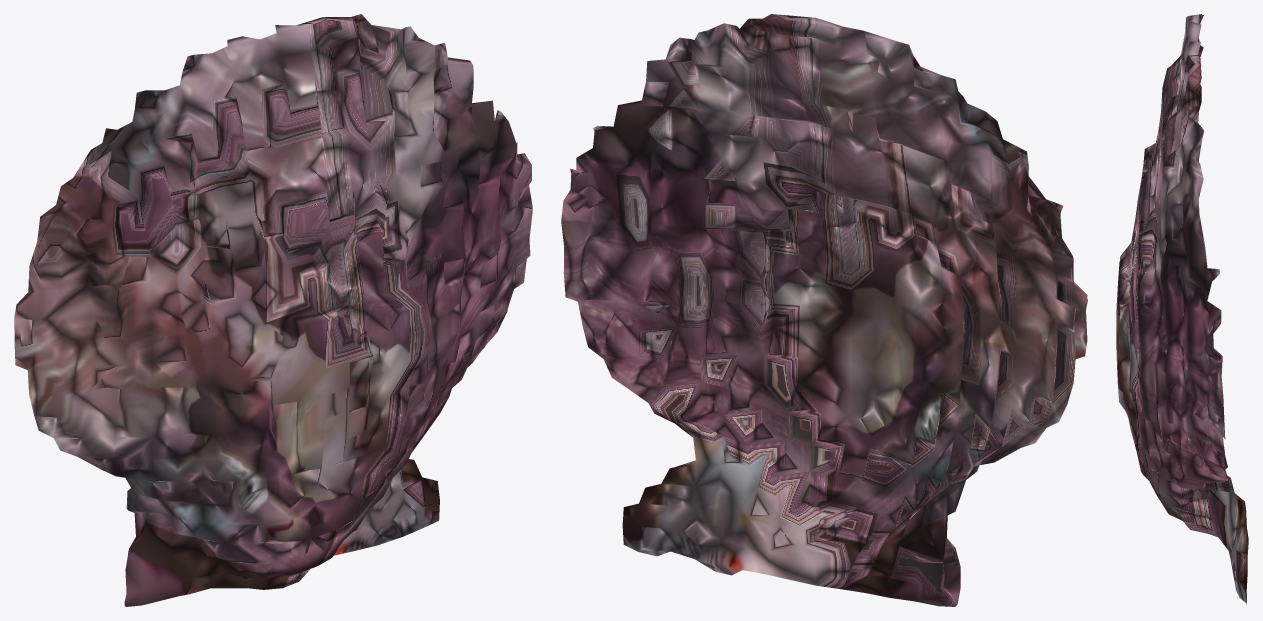
Rendered from scallop-03.glb.
3 renders of one model, left to right at view 1: azimuth 30°, elevation 25°; view 2: azimuth 150°, elevation 25°; view 3: azimuth 270°, elevation 25°, orthographic. The views are drawn at different scales.
Visible parts, largest first — view 1: purple_scallop_(F__Pectinidae)_110.11A.002; view 2: purple_scallop_(F__Pectinidae)_110.11A.002; view 3: purple_scallop_(F__Pectinidae)_110.11A.002.
Boxes of the visible parts, x1,y1,x2,y2 form: purple_scallop_(F__Pectinidae)_110.11A.002: (14, 14, 532, 606); purple_scallop_(F__Pectinidae)_110.11A.002: (561, 14, 1087, 606); purple_scallop_(F__Pectinidae)_110.11A.002: (1116, 14, 1248, 604).
Bounding box in the file's own units: 0.12 × 0.1224 × 0.03.
1 material, 1 textured.
